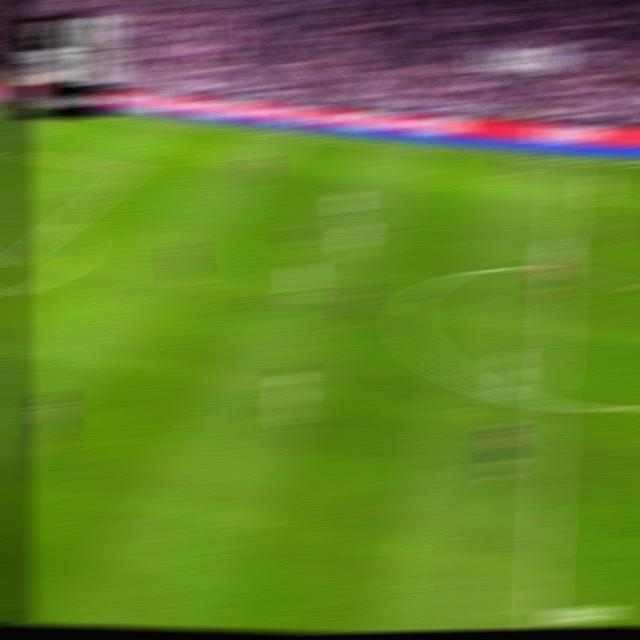bigarea_top_inner: (121, 163, 144, 177)
corner: (15, 100, 42, 113)
halfcircle_bottom: (538, 389, 567, 416)
halfcircle_top: (548, 260, 573, 279)
midline_top_intersection: (555, 154, 578, 169)
top_arc_area_intersection: (55, 213, 79, 229)
